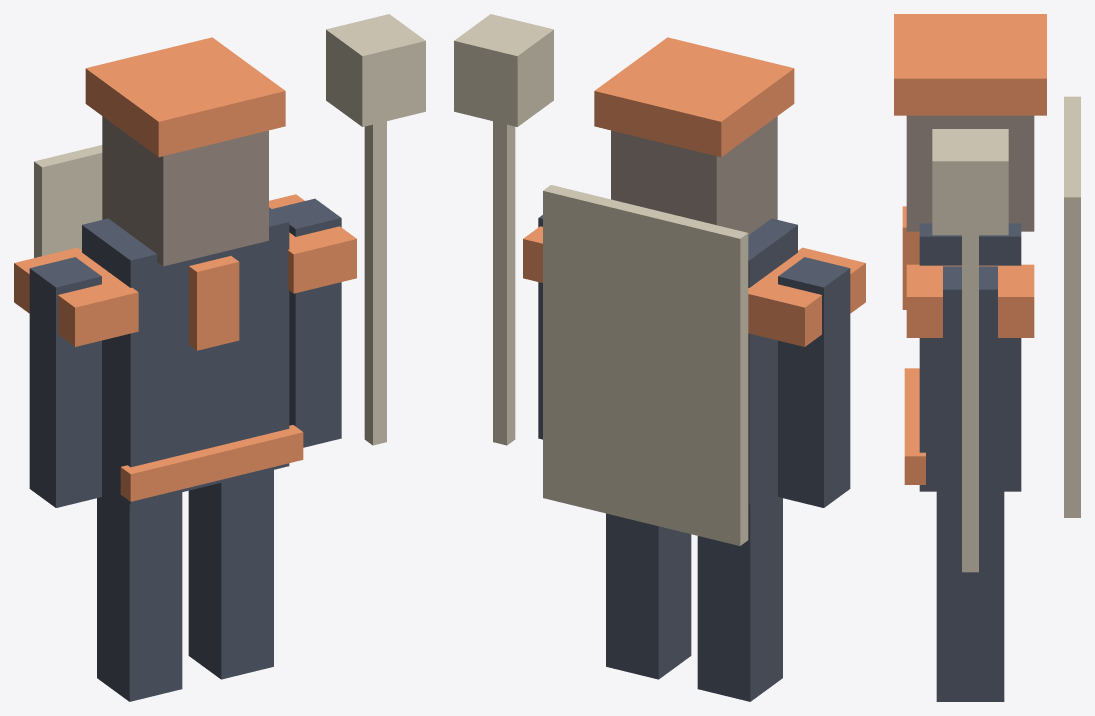
File: 05_auren_cragwarden_captain_under_maintenance.glb
The picture shows the model from 3 angles, left to right: view 1: azimuth 30°, elevation 25°; view 2: azimuth 150°, elevation 25°; view 3: azimuth 270°, elevation 25°; orthographic projection. The views are drawn at different scales.
Parts seen in each view (by area): view 1: Auren Cragwarden, Captain under Maintenance; view 2: Auren Cragwarden, Captain under Maintenance; view 3: Auren Cragwarden, Captain under Maintenance.
Boxes of the visible parts, box(x1,y1,x2,y2) form: Auren Cragwarden, Captain under Maintenance: box(14, 14, 425, 701); Auren Cragwarden, Captain under Maintenance: box(454, 14, 865, 701); Auren Cragwarden, Captain under Maintenance: box(894, 14, 1080, 701).
Size of the model in its own units: 1.02 by 1.59 by 0.4343.
